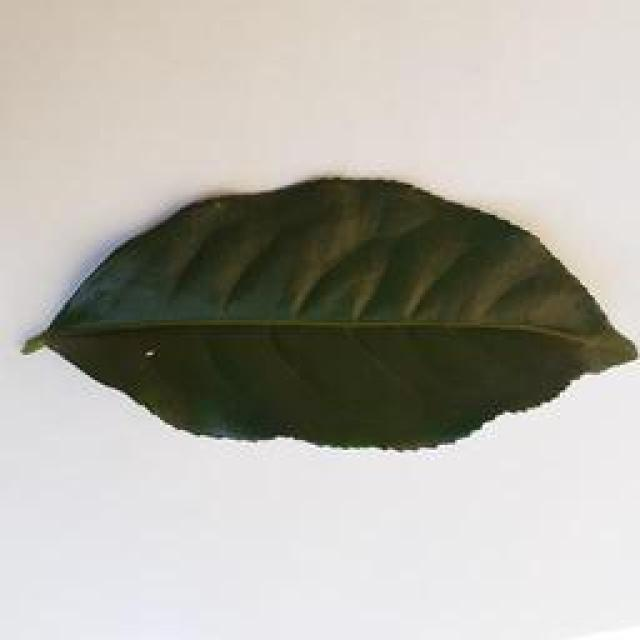Healthy: (0, 176, 640, 463)
